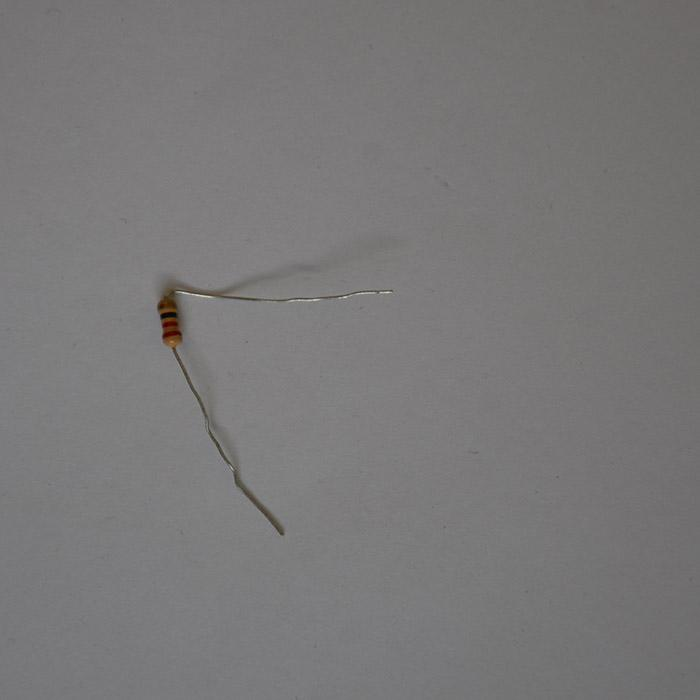resistor: (157, 297, 182, 348)
